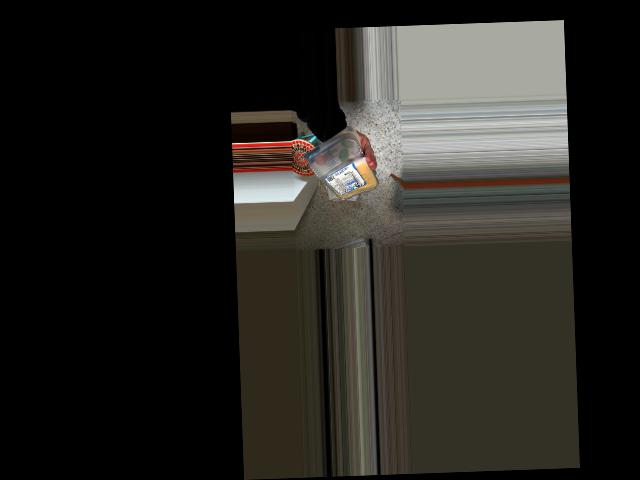cheese: (302, 130, 369, 207)
